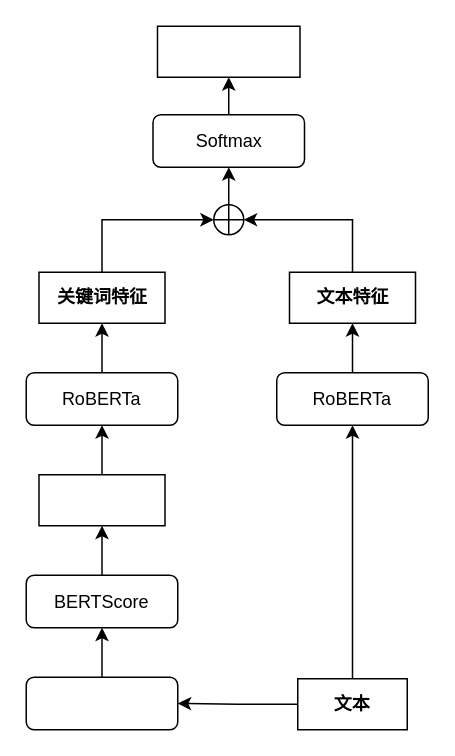
Image size: 455x756. Some labels were removed from this diagram. The centre of each missing label's shape, as x and y in pixels:
TextRank: the point at 101,703
文本关键词: the point at 101,499
用户兴趣识别: the point at 228,51
